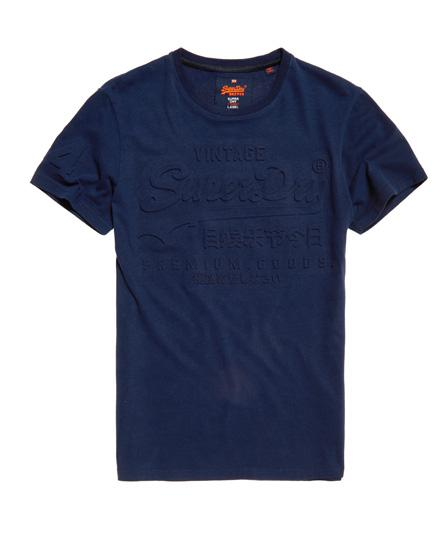teeshirt: (29, 40, 445, 509)
